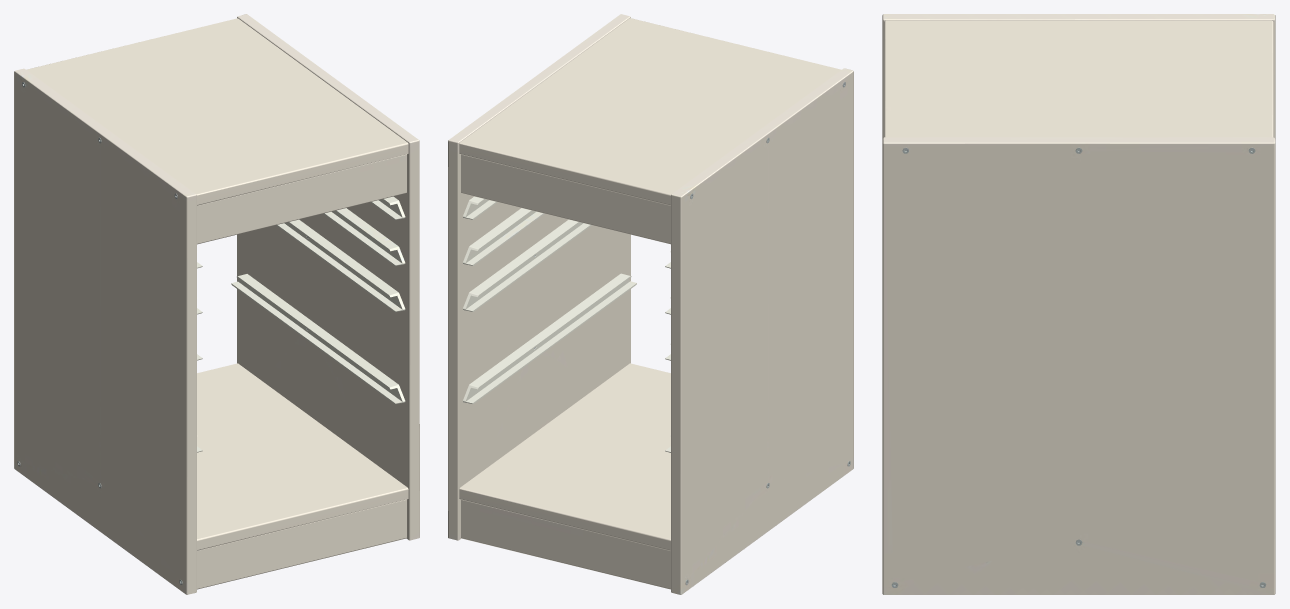
The model's file is trofast_rama_50516063.glb.
3 renders of one model, left to right at view 1: azimuth 30°, elevation 25°; view 2: azimuth 150°, elevation 25°; view 3: azimuth 270°, elevation 25°, orthographic. The views are drawn at different scales.
Visible parts, largest first — view 1: trofast_rama_50516063; view 2: trofast_rama_50516063; view 3: trofast_rama_50516063.
Boxes of the visible parts, x1,y1,x2,y2 form: trofast_rama_50516063: [14, 14, 419, 594]; trofast_rama_50516063: [448, 14, 853, 594]; trofast_rama_50516063: [882, 14, 1275, 594].
Bounding box in the file's own units: 0.341 × 0.5535 × 0.436.
1 material, 1 textured.
